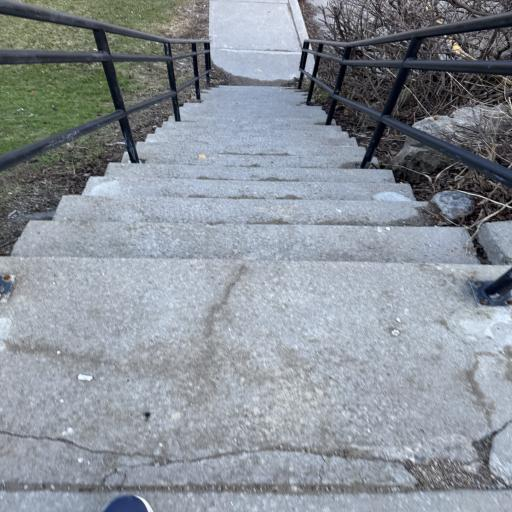Stairs: (0, 86, 512, 511), (12, 86, 477, 264)
